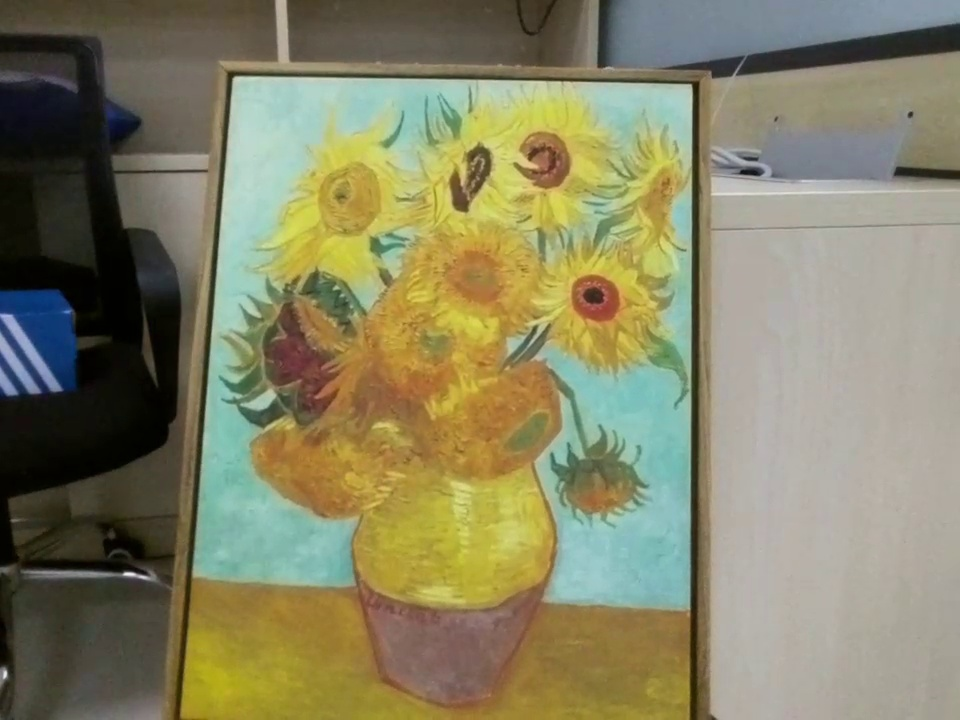painting: (172, 54, 721, 719)
